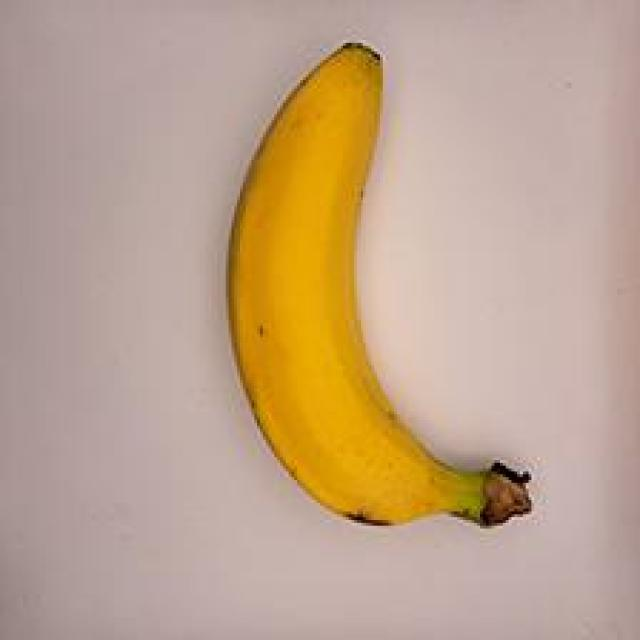Ripe: (195, 33, 572, 560)
